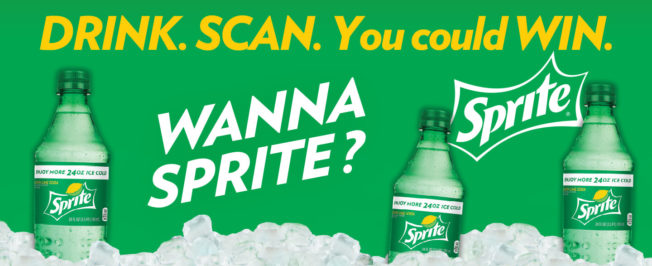sprite: (456, 72, 570, 145), (48, 189, 90, 214), (578, 195, 616, 218), (405, 221, 444, 243)
